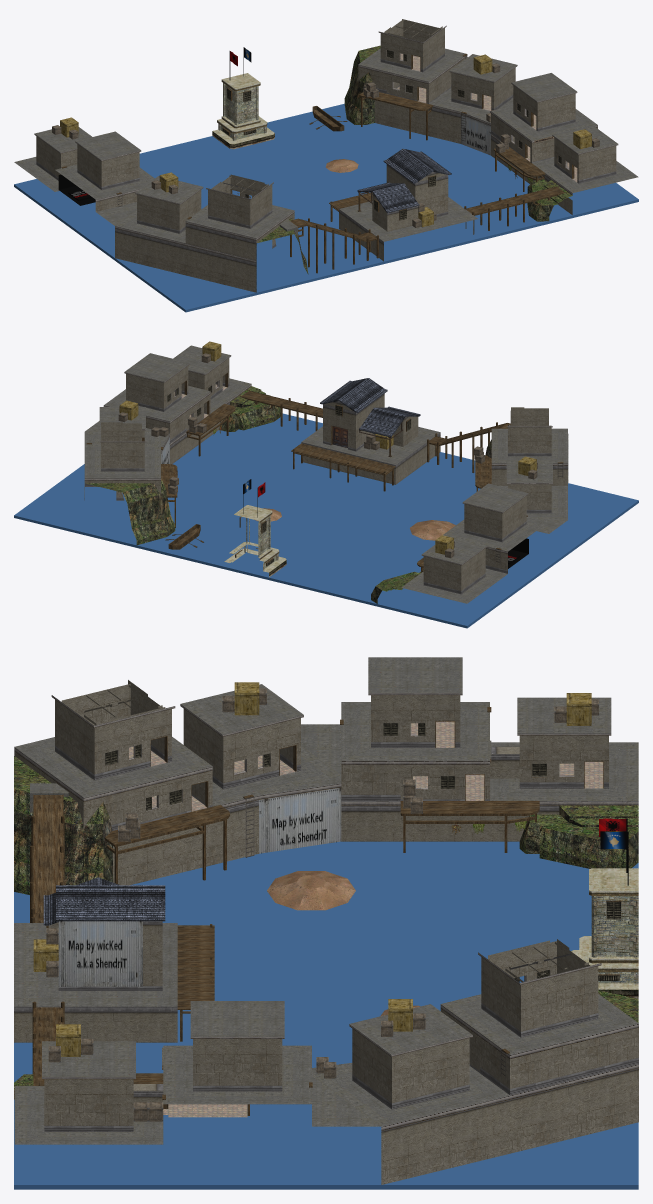
File: awp_kosova.gltf
The picture shows the model from 3 angles, top to bottom: view 1: azimuth 30°, elevation 25°; view 2: azimuth 150°, elevation 25°; view 3: azimuth 270°, elevation 25°; orthographic projection. The views are drawn at different scales.
Parts seen in each view (by area): view 1: *0, *38, *7, *6; view 2: *0, *38, *7, *6; view 3: *0, *38, *7.
Part boxes in pixels (x1,y1,x2,y2): *0: (14,19,638,292); *38: (14,103,638,312); *7: (383,148,451,183); *6: (357,182,419,213); *0: (84,341,568,603); *38: (14,413,638,628); *7: (320,378,387,412); *6: (359,406,420,437); *0: (14,657,638,1184); *38: (14,841,638,1189); *7: (56,885,165,921).
Size of the model in its own units: 92.16 by 17.52 by 60.51.
